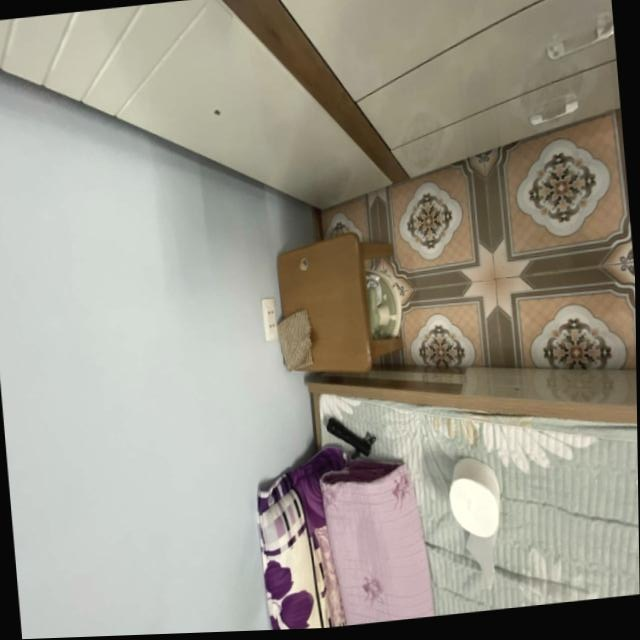outlet: (261, 298, 278, 342)
